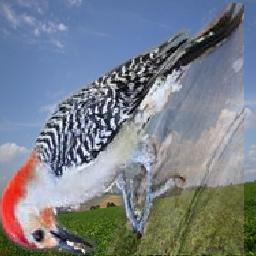Woodpecker: (0, 3, 244, 255)
